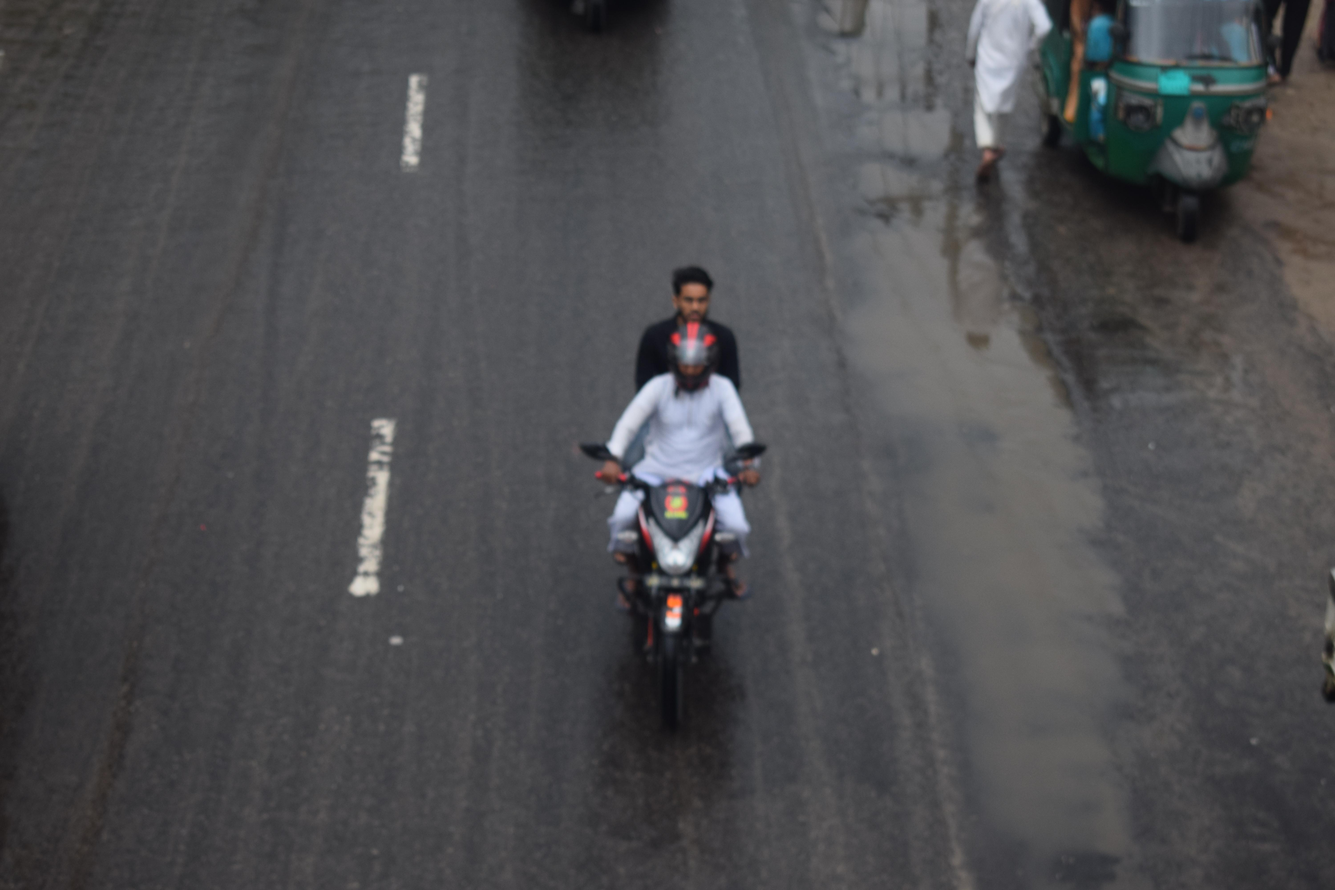Bike: (513, 199, 852, 776)
